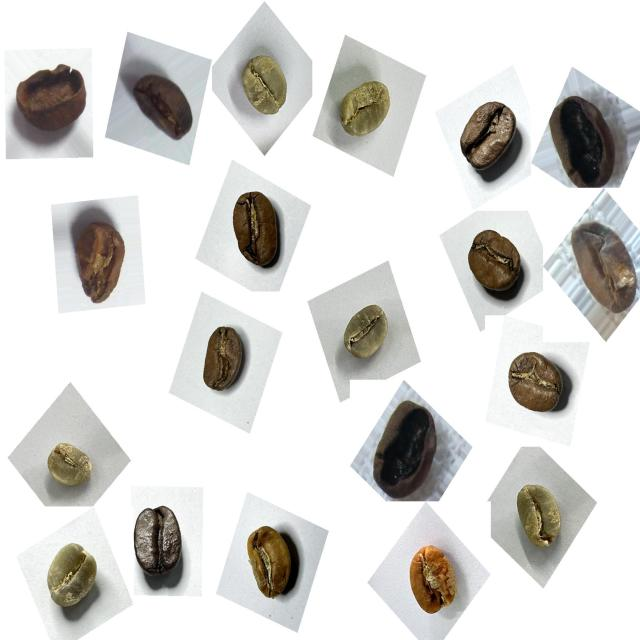bad: (538, 85, 631, 196), (365, 390, 447, 505), (10, 50, 95, 150), (60, 204, 136, 314), (559, 217, 637, 324), (124, 59, 198, 150)
dark: (120, 494, 198, 596)
green: (34, 533, 109, 625), (503, 468, 575, 559), (227, 42, 300, 131), (328, 68, 402, 154), (331, 291, 398, 376), (37, 427, 100, 501)
light: (233, 512, 311, 612), (393, 532, 469, 626)
medium: (443, 90, 531, 190), (219, 185, 292, 278), (457, 220, 533, 306), (499, 343, 576, 422), (194, 317, 258, 406)
